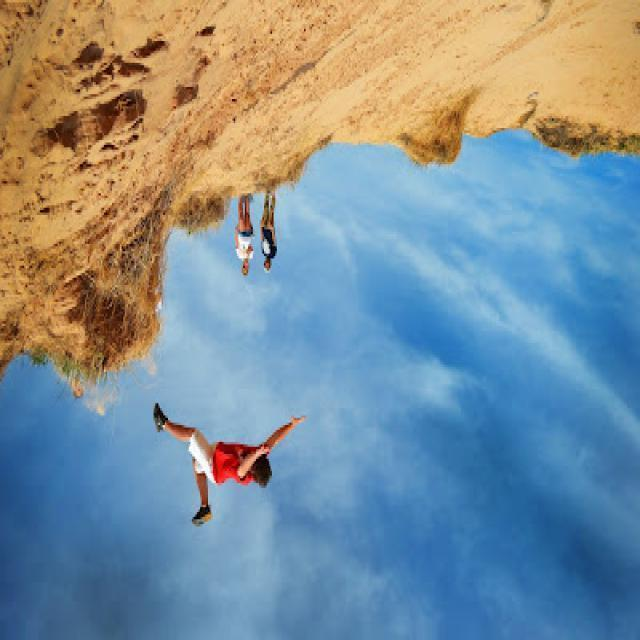fall: (147, 400, 306, 536)
